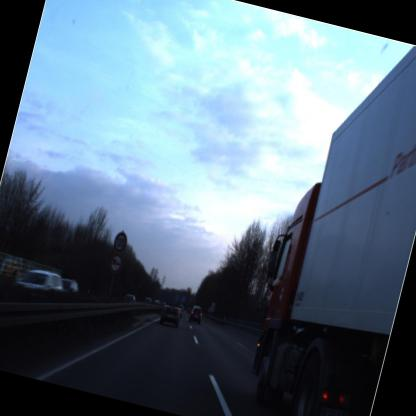prohibitory: (108, 226, 130, 256), (105, 253, 125, 274)
